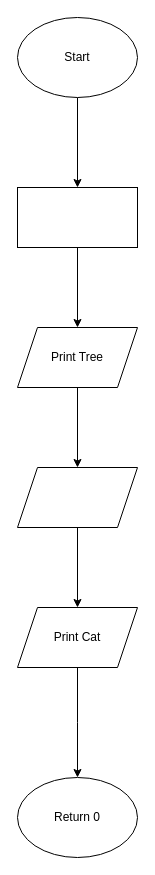
The diagram is 155 pixels wide and 875 high, and some of its shapes have lost their labels. Each missing label, with the centre of its shape:
Print 2 lines whitespace: point 77,497
Use namespace std: point 77,217
